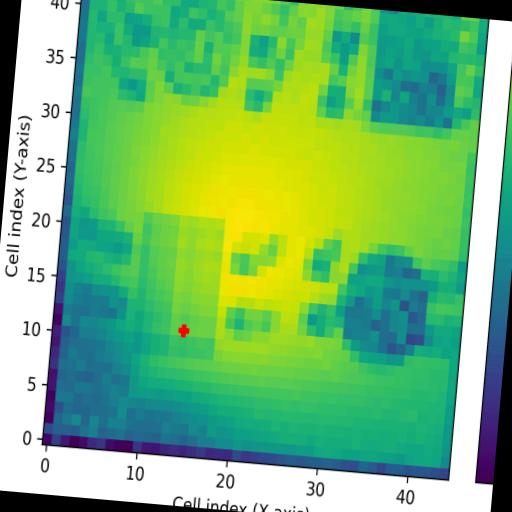Concrete: (372, 10, 462, 129)
Glass: (154, 0, 243, 99)
Metal: (331, 241, 432, 369)
Wood: (132, 210, 226, 362)
